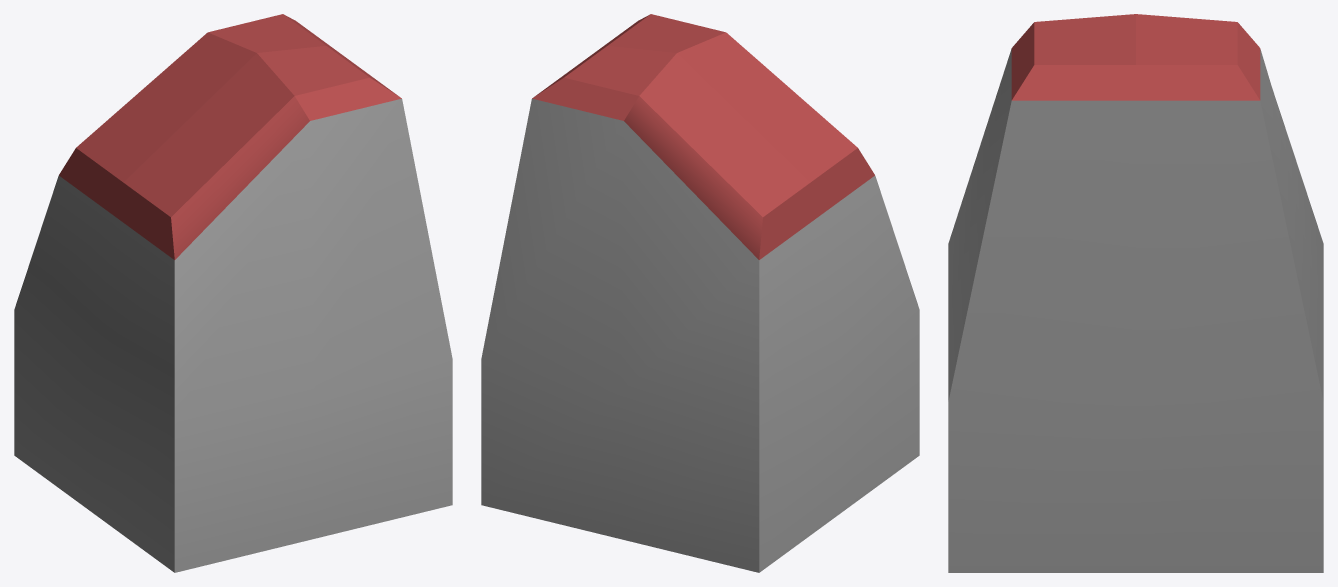
Rendered from Stone3.fbx.
3 renders of one model, left to right at view 1: azimuth 30°, elevation 25°; view 2: azimuth 150°, elevation 25°; view 3: azimuth 270°, elevation 25°, orthographic. The views are drawn at different scales.
Visible parts, largest first — view 1: pCube1; view 2: pCube1; view 3: pCube1.
Part boxes in pixels (x1,y1,x2,y2): pCube1: (14,14,452,572); pCube1: (481,14,919,572); pCube1: (948,14,1323,572).
Size of the model in its own units: 1 by 1.45 by 1.
